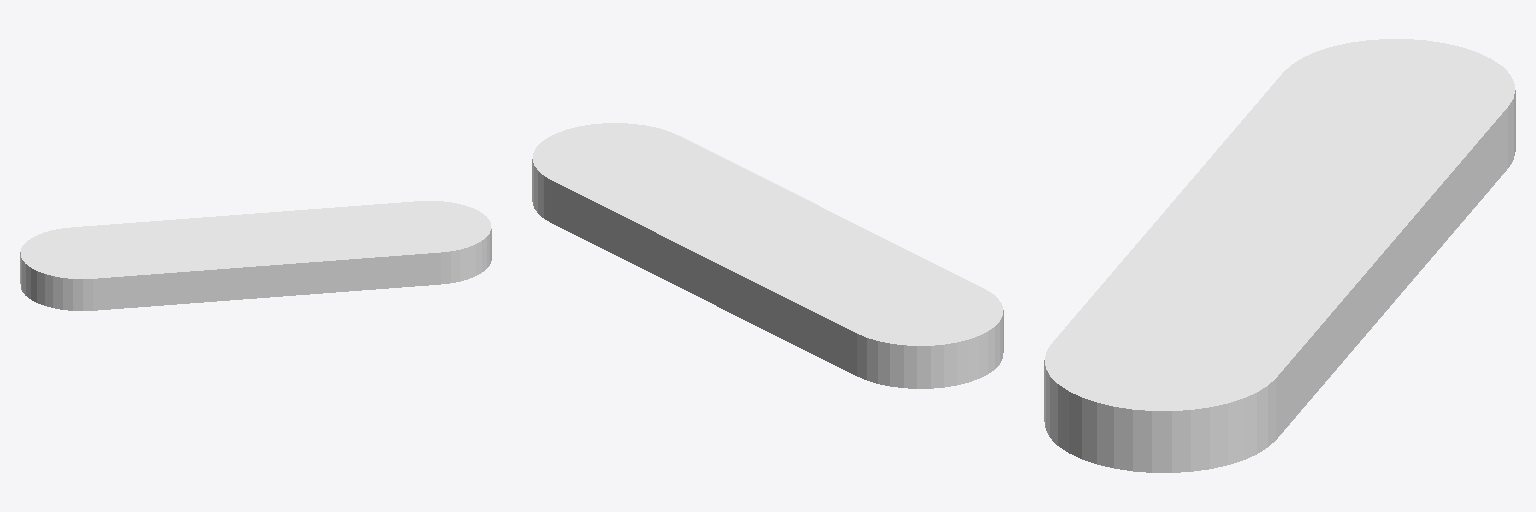
robot.urdf — damiao_motor:
<?xml version="1.0" ?>
<!-- =================================================================================== -->
<!-- |    This document was autogenerated by xacro from [local-path]/damiao_ws/src/damiao_ros2_control/urdf/damiao_motor.urdf.xacro | -->
<!-- |    EDITING THIS FILE BY HAND IS NOT RECOMMENDED                                 | -->
<!-- =================================================================================== -->
<robot name="damiao_motor">
  <!-- ros2_control 硬件接口配置 -->
  <ros2_control name="DamiaoSystem" type="system">
    <hardware>
      <plugin>damiao_ros2_control/DamiaoSystem</plugin>
  
      <param name="serial_port">/dev/ttyACM0</param>
      <param name="baud_rate">921600</param>

    </hardware>

    <joint name="motor1_joint">

      <state_interface name="position"/>
      <state_interface name="velocity"/>
      <state_interface name="effort"/>
  
      <command_interface name="position"/>
      <command_interface name="velocity"/>
    </joint>
  </ros2_control>

  <!-- ====================== 底座：竖直杆（base_link） ====================== -->
  <link
    name="base_link">
    <inertial>
      <origin
        xyz="0.000253477290225107 -1.40368868973369E-05 0.0241187399448777"
        rpy="0 0 0" />
      <mass
        value="0.308025461282533" />
      <inertia
        ixx="9.03921486870941E-05"
        ixy="8.15902115481825E-08"
        ixz="1.25501300090895E-07"
        iyy="9.03283141997523E-05"
        iyz="1.59574505477921E-09"
        izz="0.000126078332148332" />
    </inertial>
    <visual>
      <origin
        xyz="0 0 0"
        rpy="0 0 0" />
      <geometry>
        <mesh
          filename="package://damiao_ros2_control/urdf/base_link.STL" />
      </geometry>
      <material
        name="">
        <color
          rgba="0.2 0.2 0.2 1" />
      </material>
    </visual>
    <collision>
      <origin
        xyz="0 0 0"
        rpy="0 0 0" />
      <geometry>
        <mesh
          filename="package://damiao_ros2_control/urdf/base_link.STL" />
      </geometry>
    </collision>
  </link>
  <link
    name="motor1_link">
    <inertial>
      <origin
        xyz="-0.0470262679774121 0.0169861743814382 -0.005"
        rpy="0 0 0" />
      <mass
        value="0.0446211275016188" />
      <inertia
        ixx="1.1235904408583E-05"
        ixy="1.81462262697607E-05"
        ixz="3.16942446103158E-22"
        iyy="5.49192516191763E-05"
        iyz="-1.49389941997121E-22"
        izz="6.54114705693989E-05" />
    </inertial>
    <visual>
      <origin
        xyz="0 0 0"
        rpy="0 0 0" />
      <geometry>
        <mesh
          filename="package://damiao_ros2_control/urdf/link_1.STL" />
      </geometry>
      <material
        name="">
        <color
          rgba="1 1 1 1" />
      </material>
    </visual>
    <collision>
      <origin
        xyz="0 0 0"
        rpy="0 0 0" />
      <geometry>
        <mesh
          filename="package://damiao_ros2_control/urdf/link_1.STL" />
      </geometry>
    </collision>
  </link>
  <joint
    name="motor1_joint"
    type="revolute">
    <origin
      xyz="0.00017354 -1.2493E-05 0.056"
      rpy="0 0 0" />
    <parent
      link="base_link" />
    <child
      link="motor1_link" />
    <axis
      xyz="0 0 1" />
    <limit
      lower="-3.14"
      upper="3.14"
      effort="10"
      velocity="10" />
  </joint>
</robot>

--- What the picture shows (computed from the rendered views, not written in the file) ---
Views: 3 orthographic renders of the robot side by side, from view 1: azimuth 30°, elevation 25°; view 2: azimuth 150°, elevation 25°; view 3: azimuth 270°, elevation 25°.
Model damiao_motor with 2 links and 1 joints (1 revolute), rooted at base_link, posed all joints at 0.
Visible links, largest first — view 1: motor1_link; view 2: motor1_link; view 3: motor1_link.
Boxes of the visible links, box(x1,y1,x2,y2) form: motor1_link: box(20, 201, 491, 310); motor1_link: box(532, 123, 1003, 388); motor1_link: box(1044, 39, 1515, 472).
Size in the robot's own frame: 0.129 by 0.069 by 0.01 metres.
1 mesh visuals loaded from 2 distinct referenced files (1 binary STL); not drawn: 1 (reference not matched to a file when rendering).
